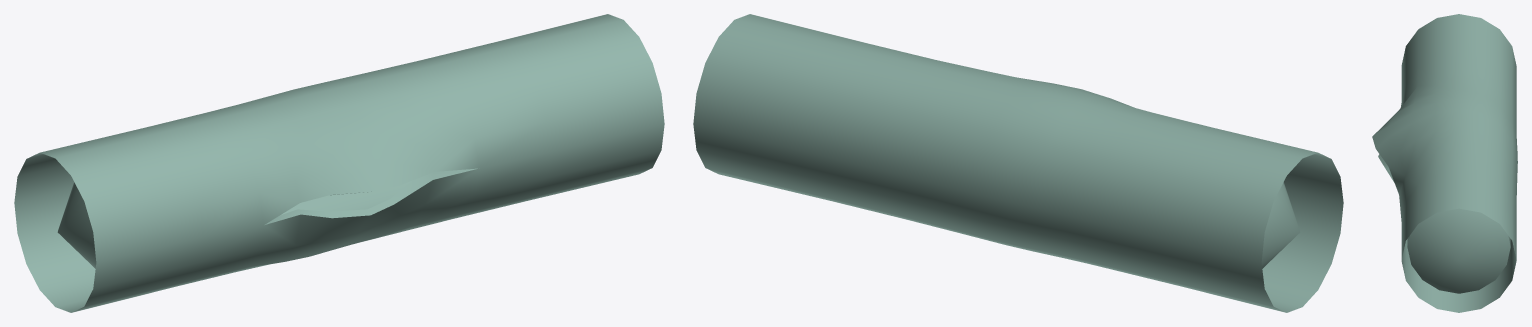
File: PipeLarge_BrokenStraight_02.fbx
3 renders of one model, left to right at view 1: azimuth 30°, elevation 25°; view 2: azimuth 150°, elevation 25°; view 3: azimuth 270°, elevation 25°, orthographic. The views are drawn at different scales.
Visible parts, largest first — view 1: PipeLarge_BrokenStraight_02.001; view 2: PipeLarge_BrokenStraight_02.001; view 3: PipeLarge_BrokenStraight_02.001.
Boxes of the visible parts, x1,y1,x2,y2 form: PipeLarge_BrokenStraight_02.001: [14, 14, 664, 312]; PipeLarge_BrokenStraight_02.001: [693, 14, 1343, 312]; PipeLarge_BrokenStraight_02.001: [1372, 14, 1517, 312].
Size of the model in its own units: 0.8 by 0.2038 by 0.2532.
